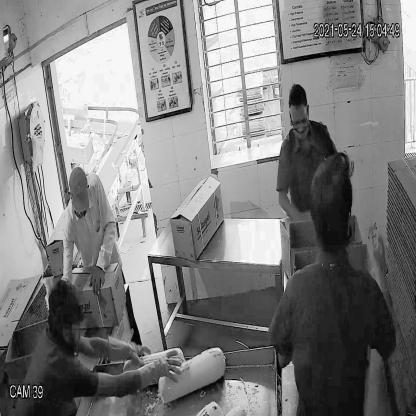goggles: (288, 108, 312, 133)
